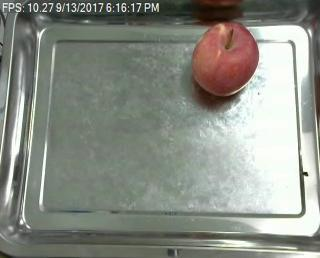apple: (191, 21, 259, 96)
